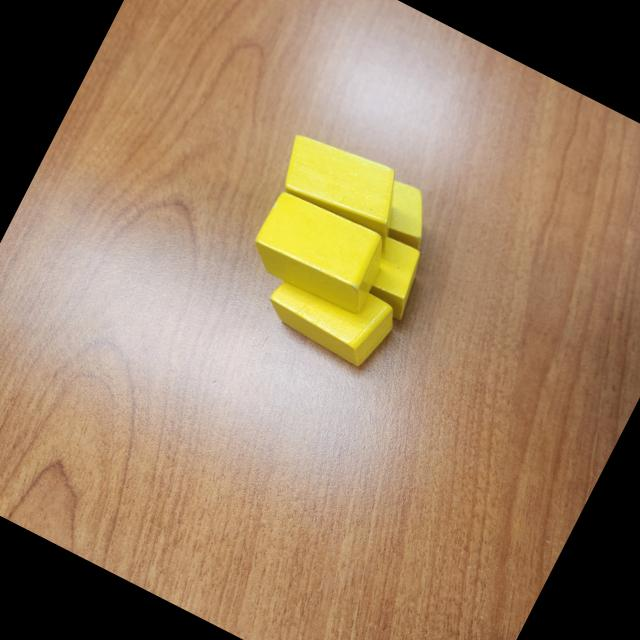yellow: (242, 186, 394, 320), (270, 124, 416, 244), (258, 254, 402, 374), (350, 230, 434, 322), (368, 176, 446, 252)
